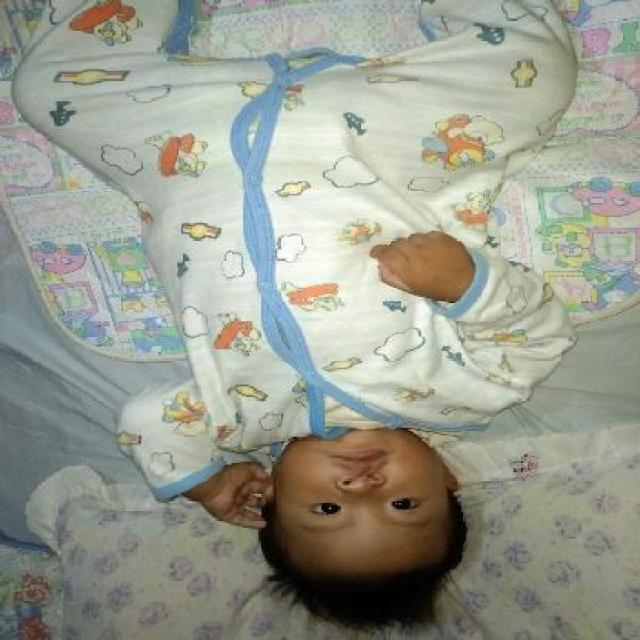baby: (12, 2, 577, 630)
